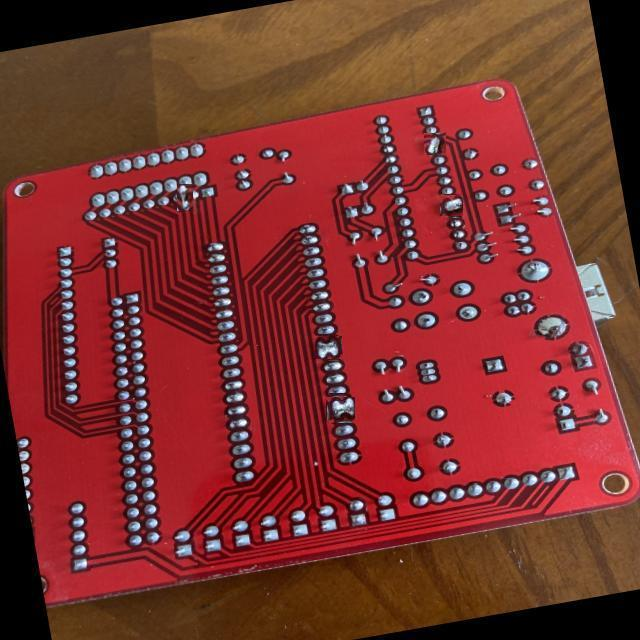damged: (327, 395, 354, 422), (316, 335, 342, 360), (174, 186, 197, 208), (440, 195, 463, 217), (424, 133, 446, 155)
